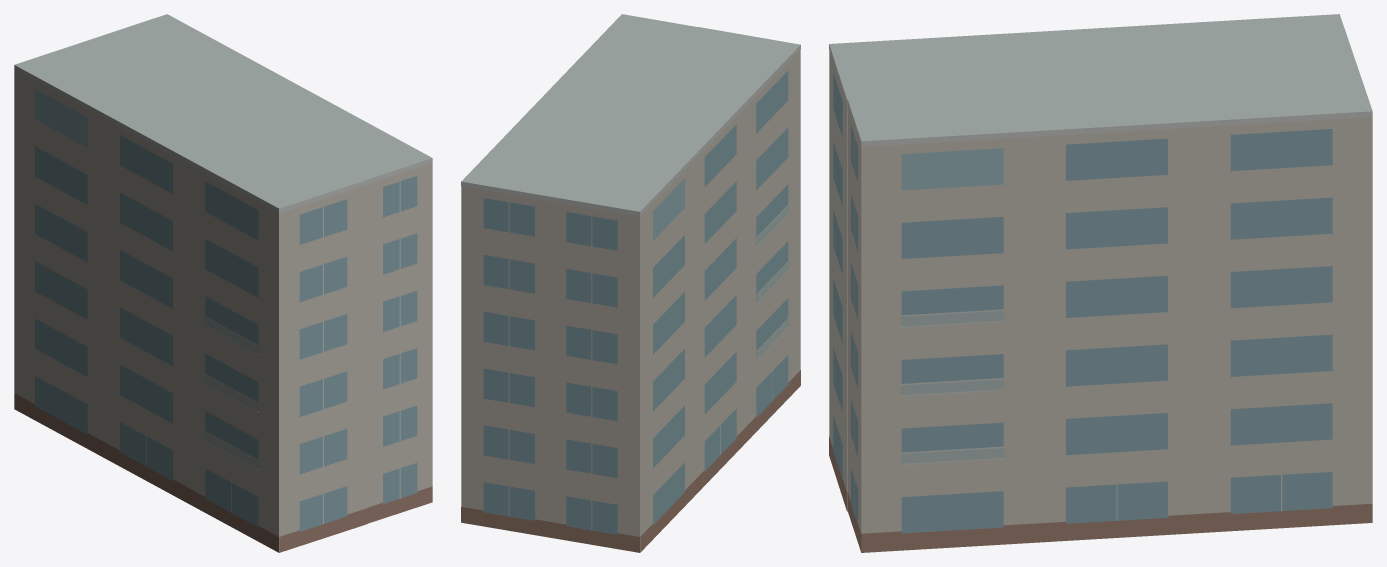
Rendered from survey-upis-33009045.glb.
The picture shows the model from 3 angles, left to right: view 1: azimuth 30°, elevation 25°; view 2: azimuth 150°, elevation 25°; view 3: azimuth 270°, elevation 25°; orthographic projection. The views are drawn at different scales.
Visible parts, largest first — view 1: survey-upis-33009045.tmp; view 2: survey-upis-33009045.tmp; view 3: survey-upis-33009045.tmp.
Boxes of the visible parts, <box> form: survey-upis-33009045.tmp: <box>14,14,432,552</box>; survey-upis-33009045.tmp: <box>461,14,800,552</box>; survey-upis-33009045.tmp: <box>829,14,1372,552</box>.
Size of the model in its own units: 11.89 by 17.9 by 21.44.
